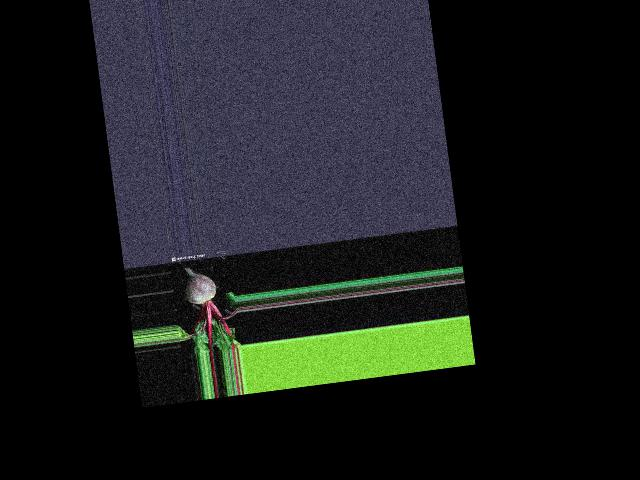beet: (170, 261, 242, 355)
